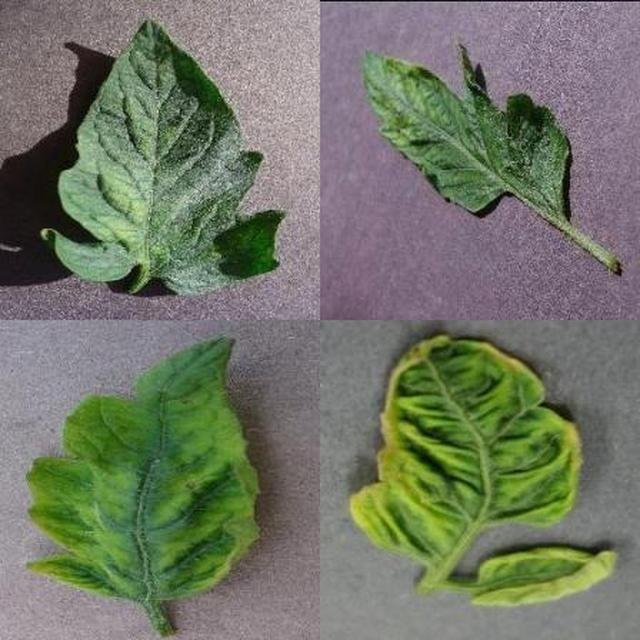Spider Mites Leaf: (205, 86, 640, 640)
